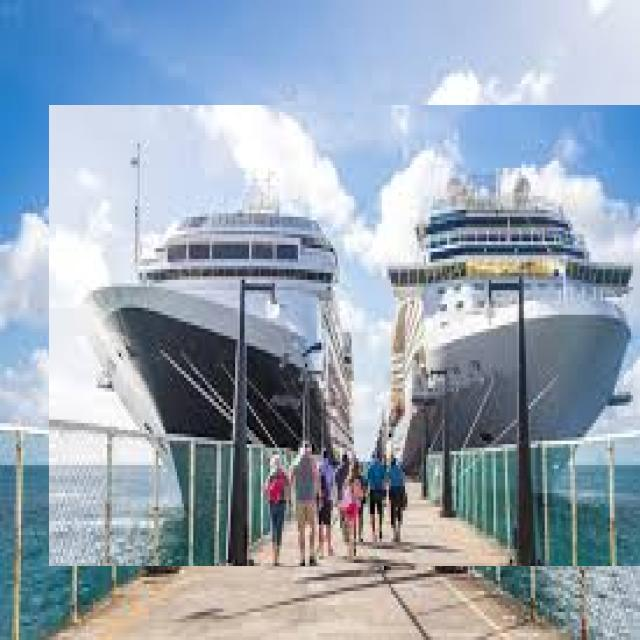PassengerShip: (49, 105, 640, 566)
